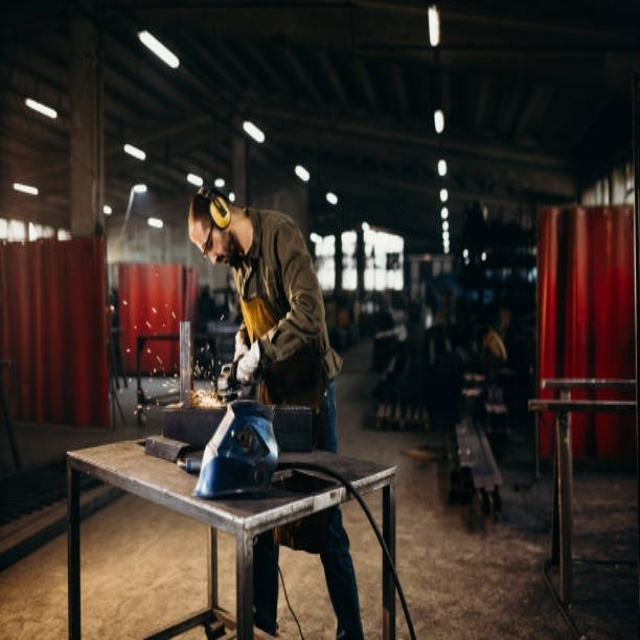Gafas: (203, 219, 215, 259)
Guantes: (235, 337, 262, 385)
Sin_mascara: (215, 246, 234, 270)
